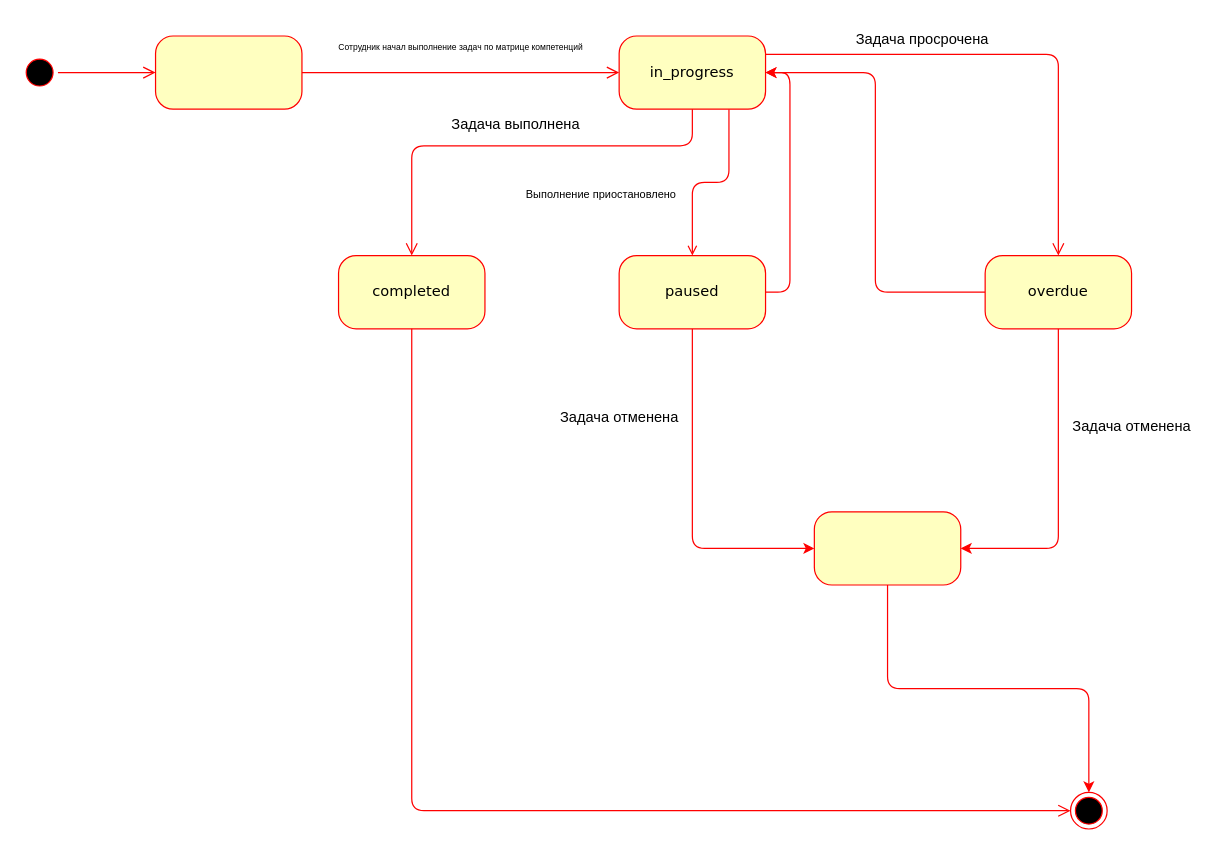
Image size: 1226x850. Some labels were removed from this diagram. The shapes that lost their labels are listed below. From the top down, each one's box as (x1, y1, x2, y2) in pixels, then its label:
(154, 35, 302, 109): not_started
(813, 511, 961, 585): cancelled
